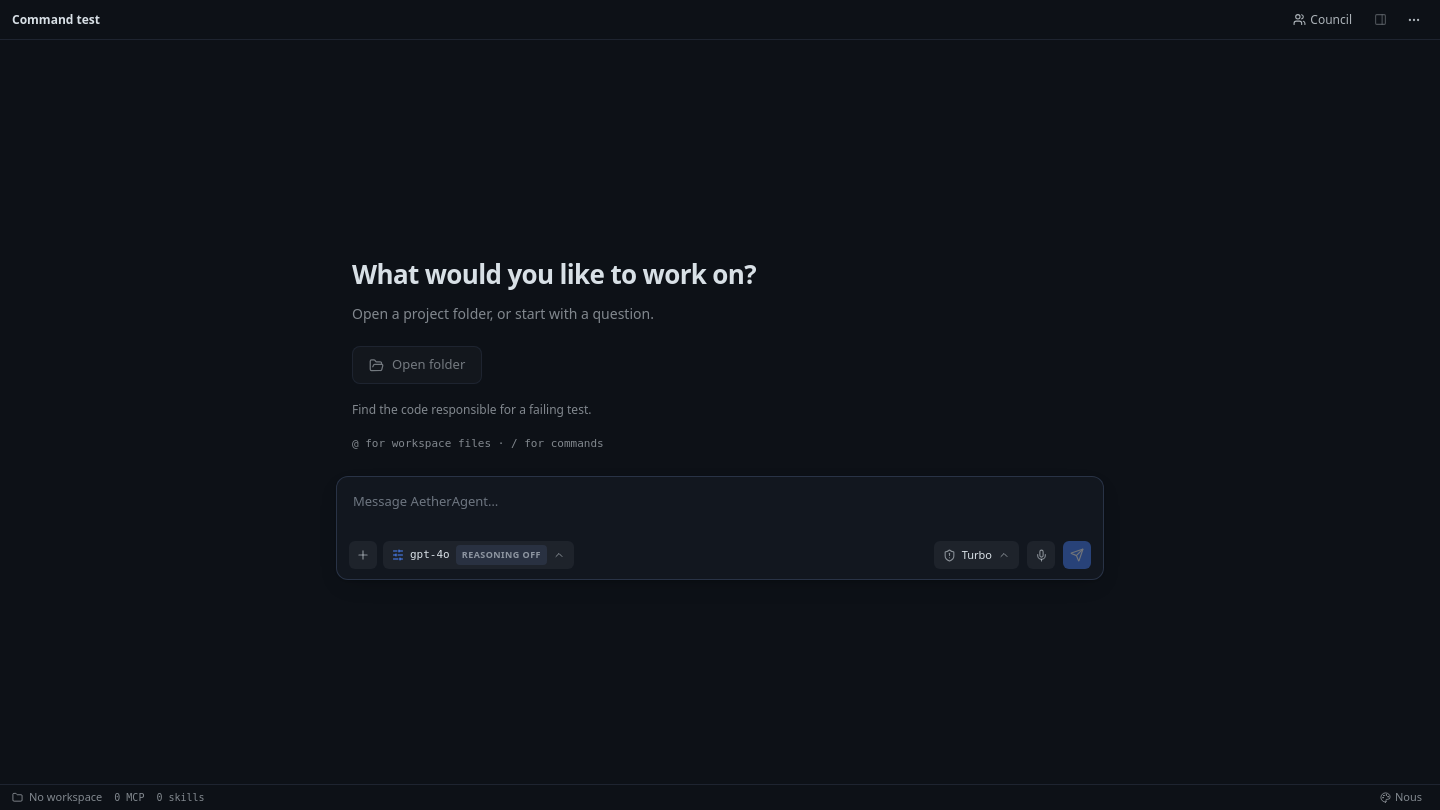
ChatCanvas council candidates › enables Council Mode when a second model exists
Click the button titled "Council Mode (Dual Model A/B Test)". click: [1323, 20]
box: [1284,6,1361,34]
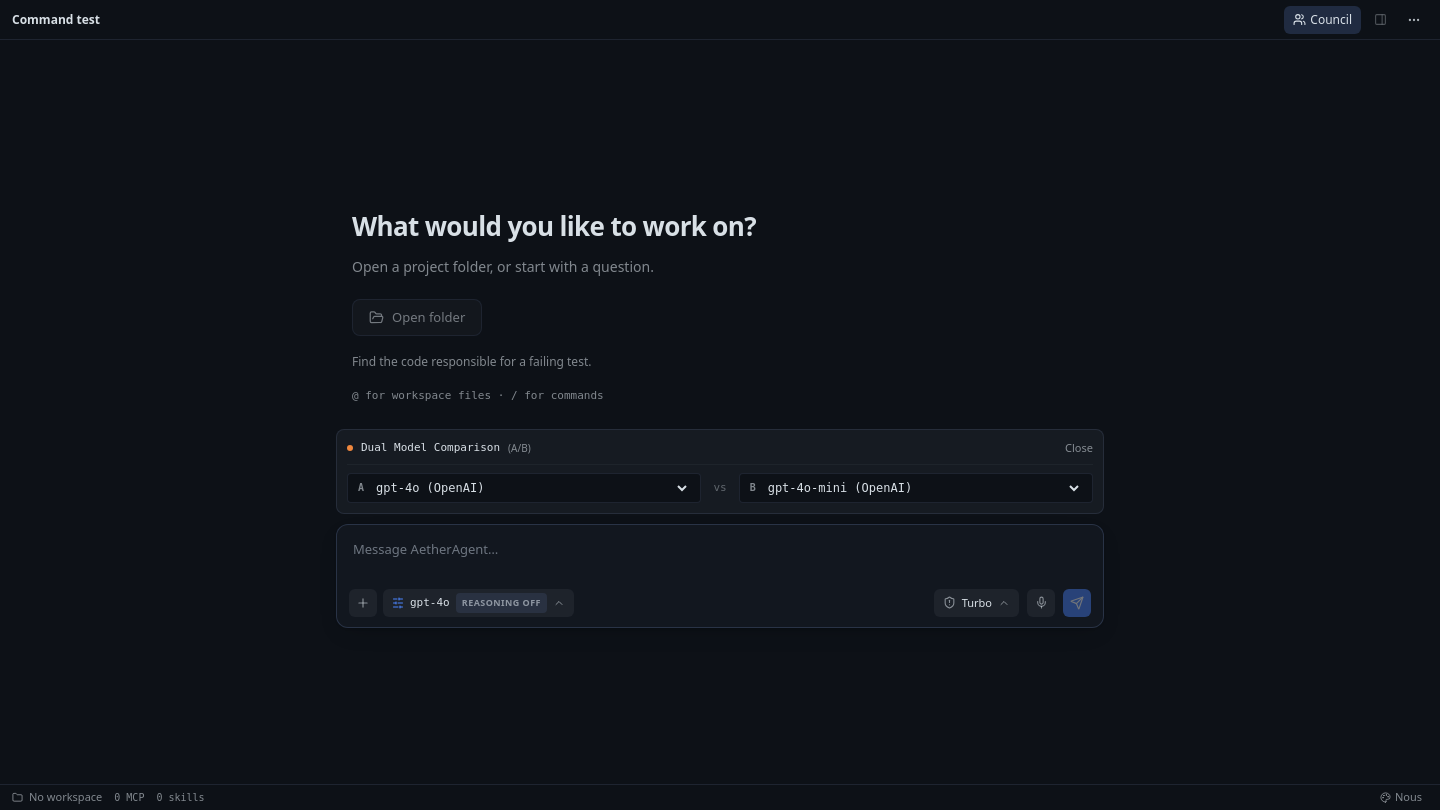
expect the text "Dual Model Comparison" is shown: met, box [361,440,500,456]
expect the number of dropdowns is 2: met, box [372,480,690,496]; [764,480,1082,496]
